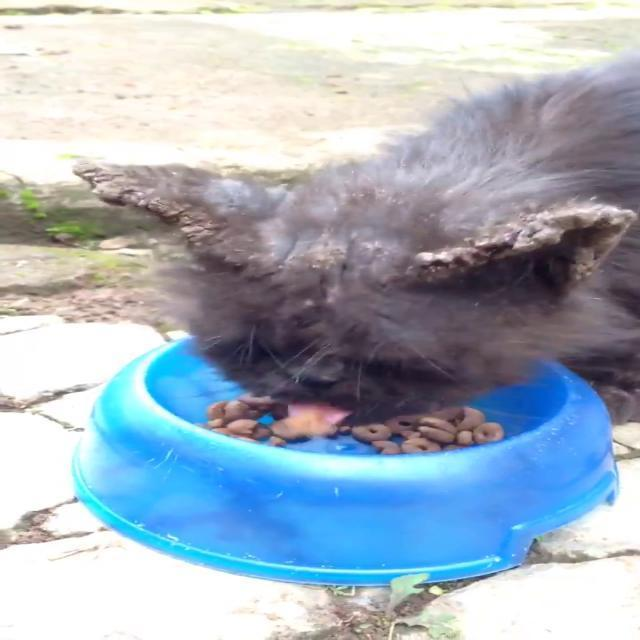ghe: (74, 162, 324, 304), (398, 187, 640, 313)
